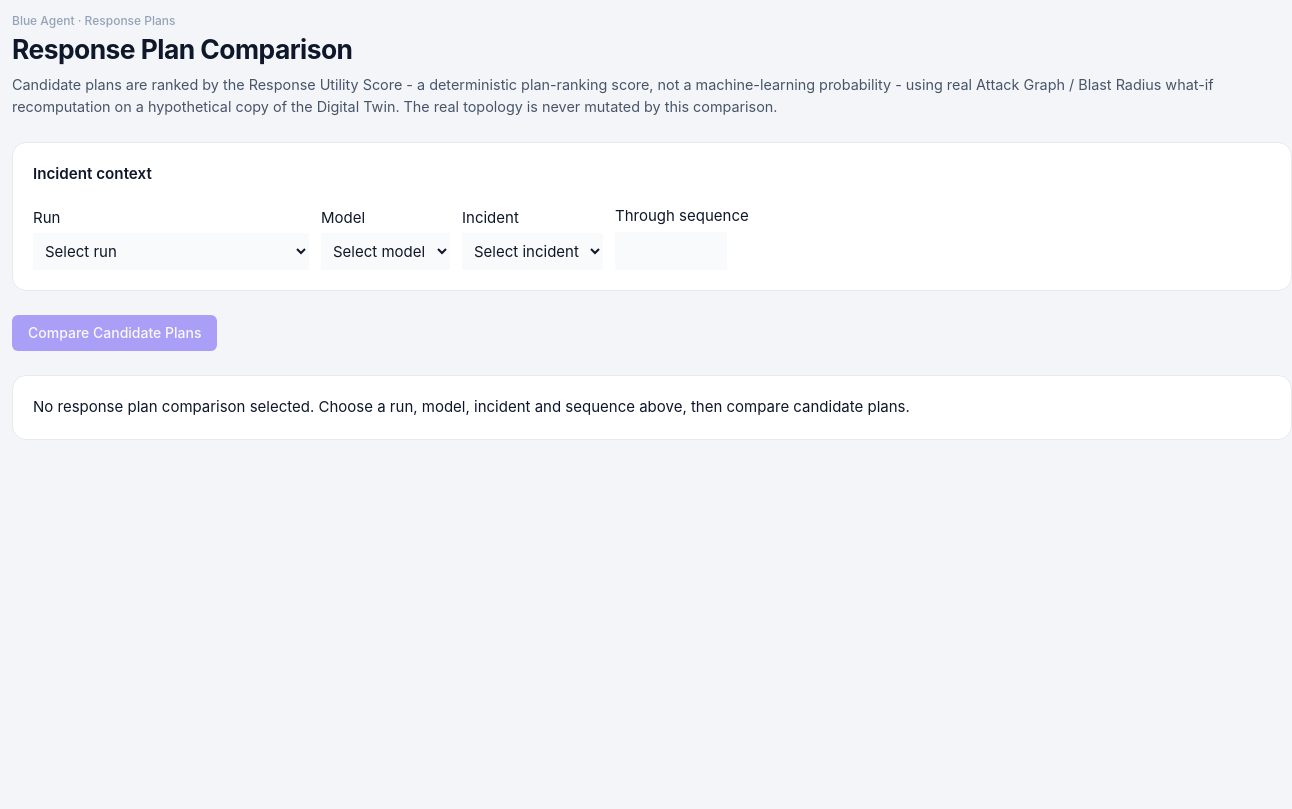
Scenario: Blue Agent response plan comparison › ranks candidate plans and shows the Response Utility Score, not just Defense Score
Select "run-1 · staged-compromise-demo" in the dropdown named "Blue Agent run": (171, 252) [33,233,309,270]
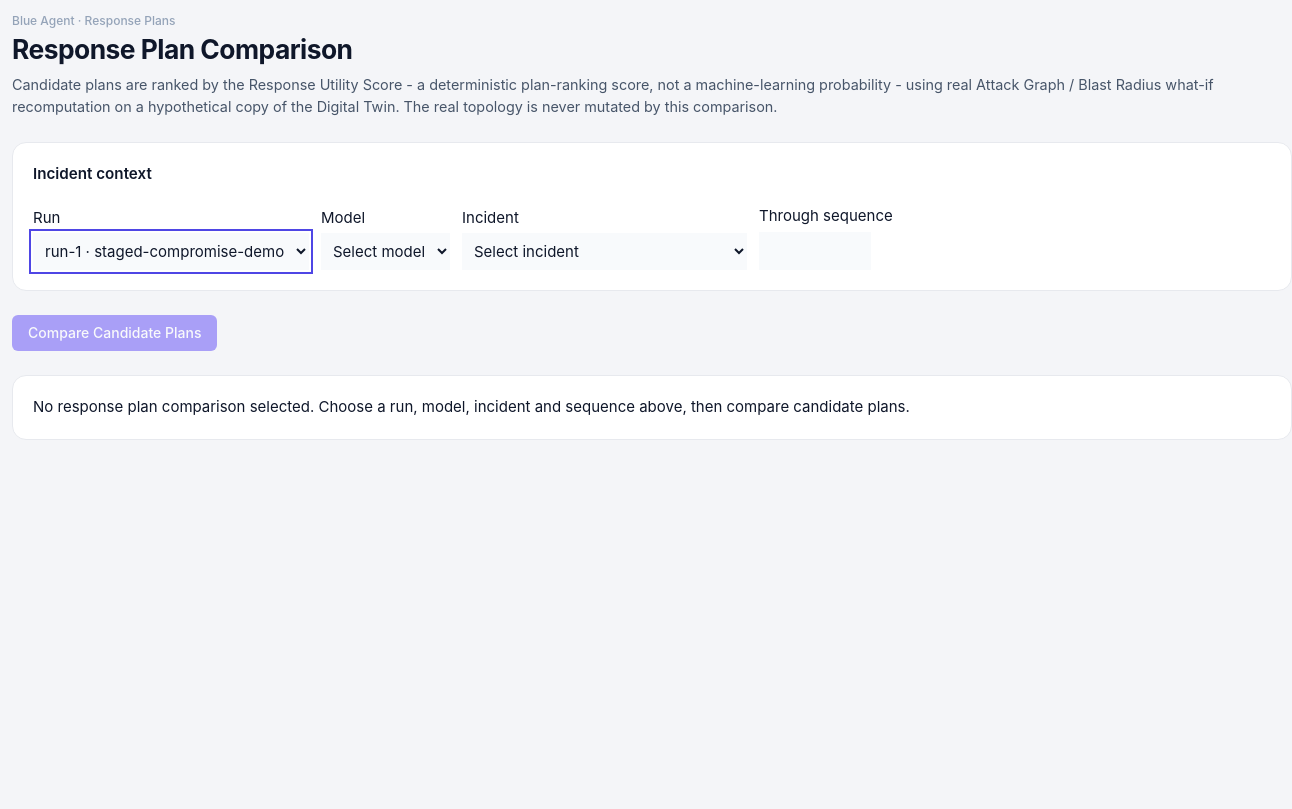
Select "model-1" in the dropdown named "Blue Agent model": (386, 252) [321,233,450,270]
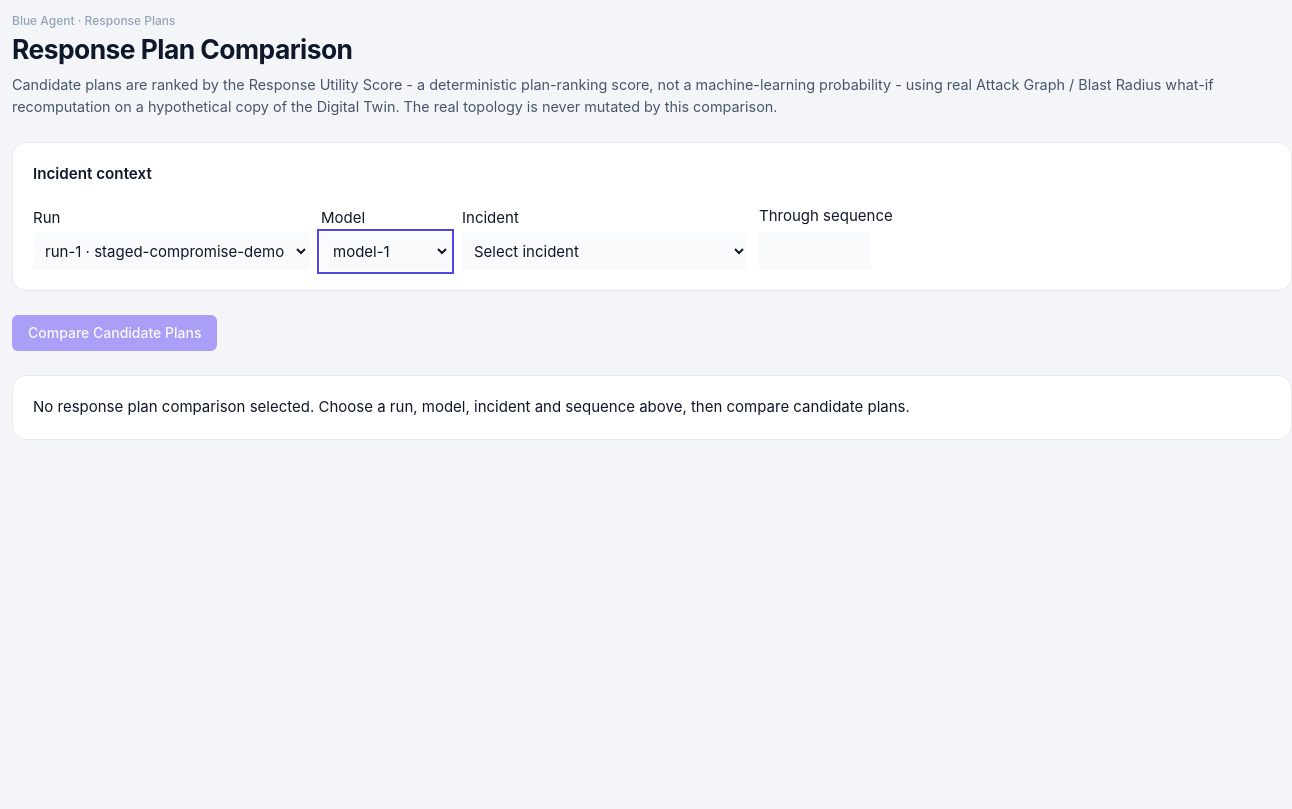
Select "Staged compromise incident (high)" in the dropdown named "Blue Agent incident candidate": (604, 252) [462,233,747,270]
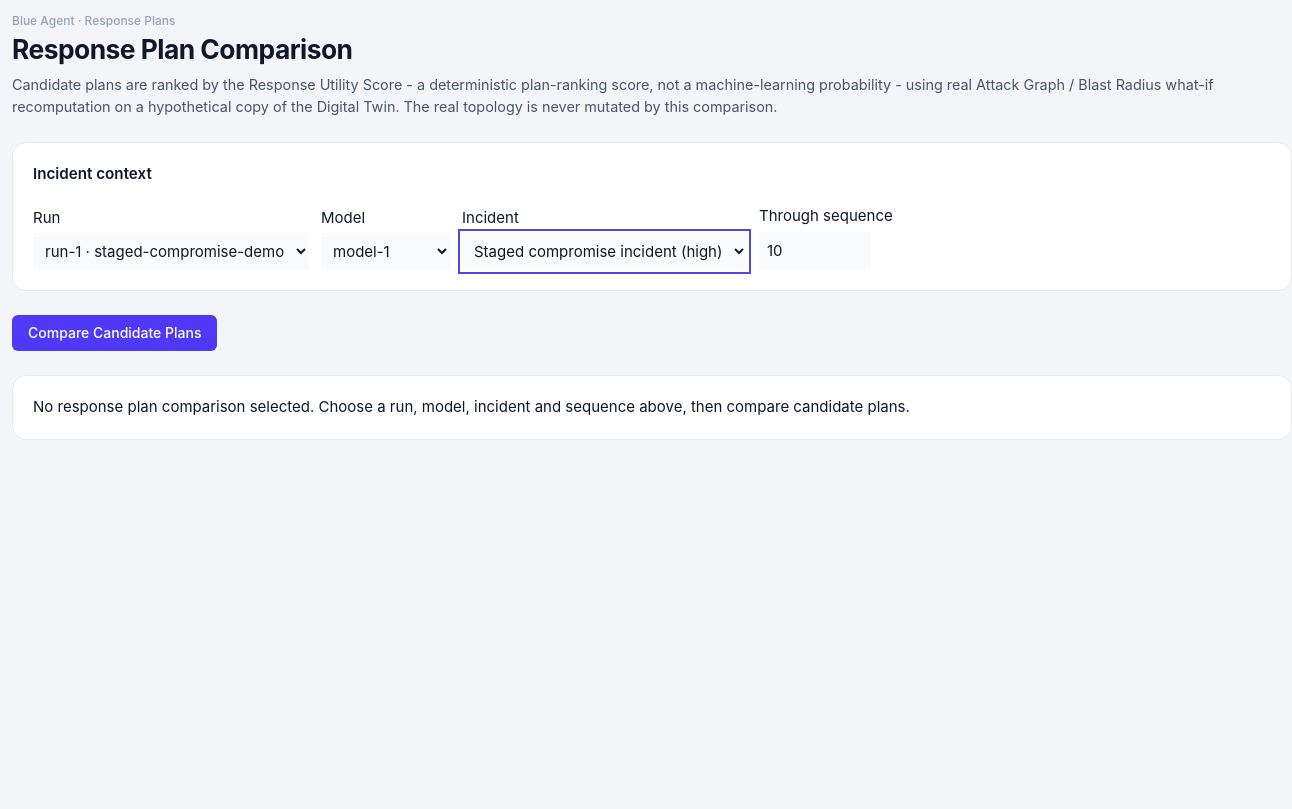
Click the button "Compare Candidate Plans": (115, 333) [12,315,217,351]
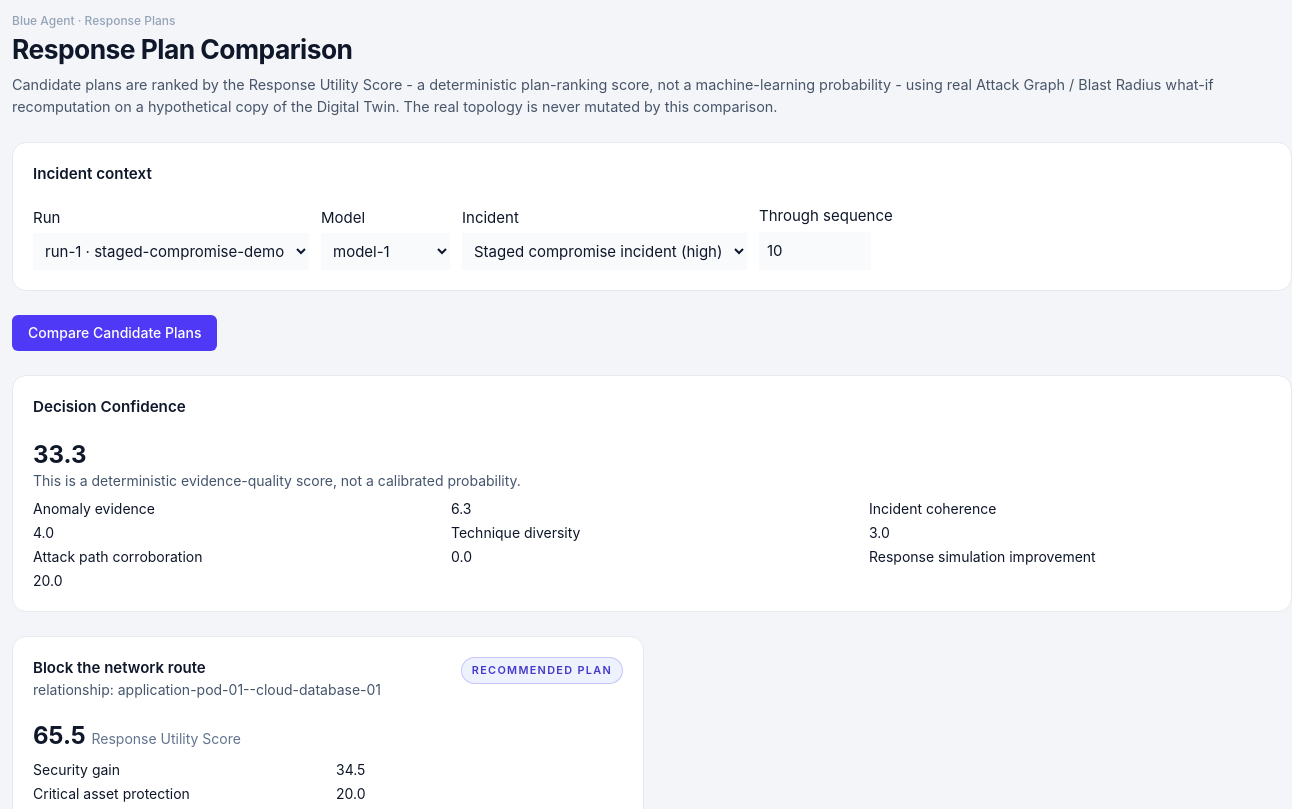
Check: the heading "Block the network route" is shown, box [33,658,206,677]
Check: the text "Recommended plan" is shown, box [461,657,623,684]
Check: the text "not a calibrated probability" is shown, box [33,472,521,489]
